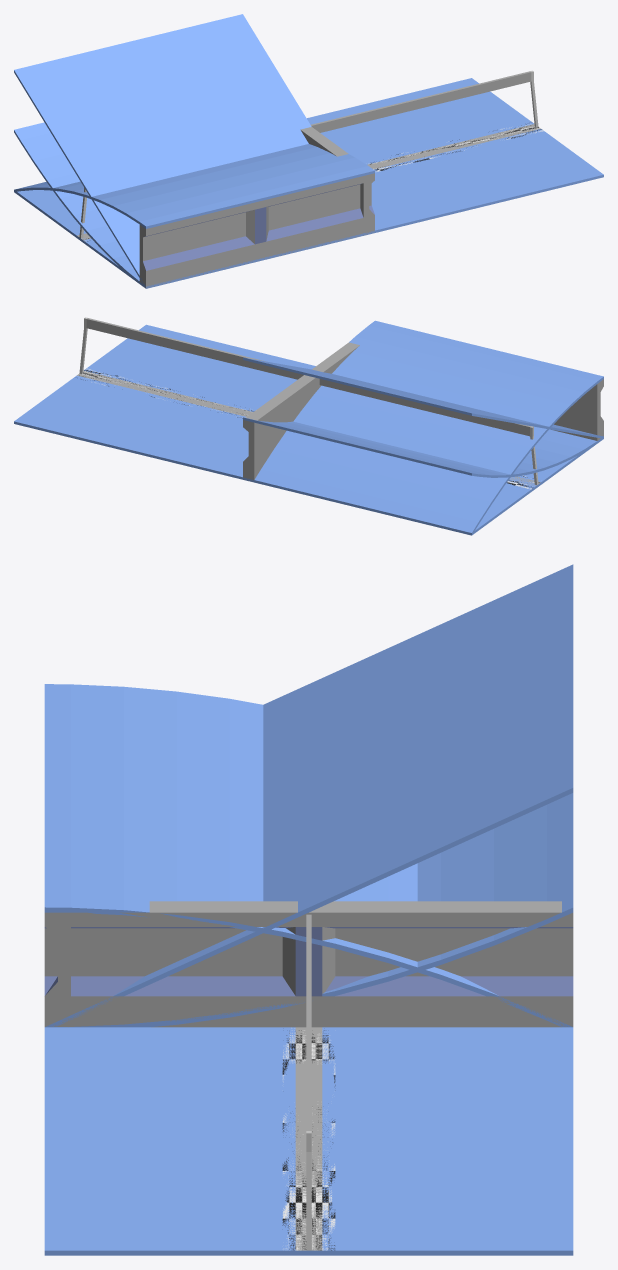
3 renders of one model, top to bottom at view 1: azimuth 30°, elevation 25°; view 2: azimuth 150°, elevation 25°; view 3: azimuth 270°, elevation 25°, orthographic. The views are drawn at different scales.
Parts seen in each view (by area): view 1: PlaneSlope, PlaneCheckpointWide, PlaneWall, PlaneSlopeDown, PlaneFinishWide, PlaneSlopeUp, PlaneWallCorner, PlaneCheckpoint, HalfPlane, PlaneWallInnerCorner; view 2: PlaneSlopeDown, PlaneCheckpointWide, PlaneFinishWide, PlaneWallCorner, PlaneSlopeUp, PlaneCheckpoint, PlaneSlope, PlaneWall, HalfPlane, PlaneFinish, Plane; view 3: PlaneCheckpointWide, PlaneSlope, PlaneFinishWide, PlaneWallCorner, PlaneSlopeDown, PlaneSlopeUp, PlaneWallInnerCorner, PlaneWall.
Boxes of the visible parts, x1,y1,x2,y2 form: PlaneSlope: [14, 14, 311, 286]; PlaneCheckpointWide: [18, 70, 603, 288]; PlaneWall: [139, 173, 374, 288]; PlaneSlopeDown: [14, 144, 374, 228]; PlaneFinishWide: [27, 78, 601, 229]; PlaneSlopeUp: [14, 122, 144, 287]; PlaneWallCorner: [147, 127, 374, 234]; PlaneCheckpoint: [15, 187, 371, 288]; HalfPlane: [14, 190, 374, 288]; PlaneWallInnerCorner: [360, 174, 374, 233]; PlaneSlopeDown: [254, 320, 603, 532]; PlaneCheckpointWide: [14, 317, 573, 534]; PlaneFinishWide: [16, 325, 530, 527]; PlaneWallCorner: [243, 342, 597, 480]; PlaneSlopeUp: [243, 417, 596, 477]; PlaneCheckpoint: [243, 379, 603, 535]; PlaneSlope: [243, 357, 603, 438]; PlaneWall: [553, 379, 603, 440]; HalfPlane: [472, 437, 603, 534]; PlaneFinish: [473, 464, 565, 532]; Plane: [243, 463, 566, 535]; PlaneCheckpointWide: [44, 914, 573, 1255]; PlaneSlope: [45, 564, 573, 1027]; PlaneFinishWide: [44, 1027, 573, 1255]; PlaneWallCorner: [44, 901, 573, 1027]; PlaneSlopeDown: [44, 684, 572, 1027]; PlaneSlopeUp: [54, 793, 573, 1027]; PlaneWallInnerCorner: [44, 921, 70, 1027]; PlaneWall: [44, 912, 70, 1026].
Size of the model in its own units: 40 by 10.21 by 20.
